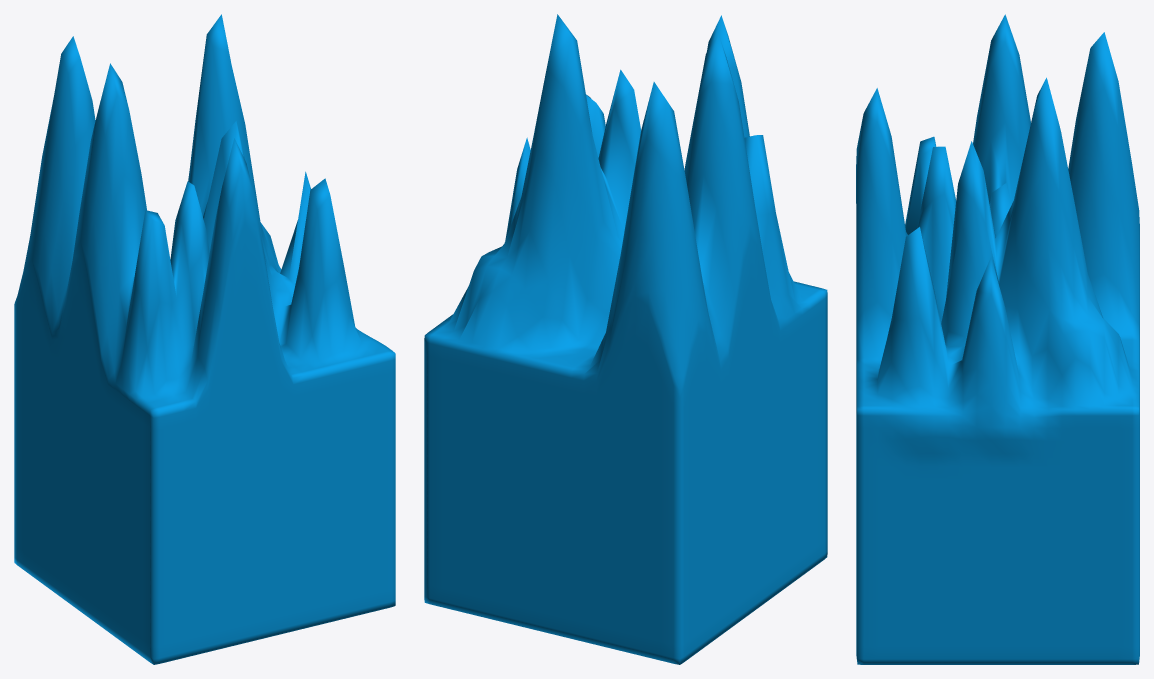
The picture shows the model from 3 angles, left to right: view 1: azimuth 30°, elevation 25°; view 2: azimuth 150°, elevation 25°; view 3: azimuth 270°, elevation 25°; orthographic projection. The views are drawn at different scales.
Visible parts, largest first — view 1: Cube; view 2: Cube; view 3: Cube.
Boxes of the visible parts, x1,y1,x2,y2 form: Cube: [14, 14, 395, 664]; Cube: [424, 14, 827, 664]; Cube: [856, 14, 1139, 664].
Size of the model in its own units: 204 by 427 by 200.
